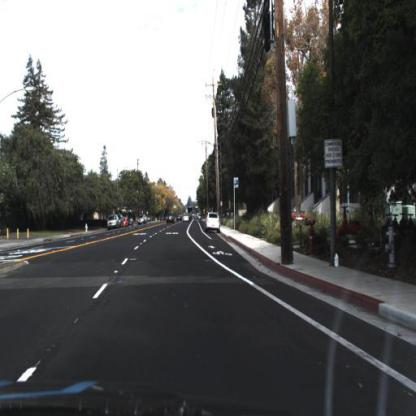car: (205, 212, 222, 235), (208, 213, 223, 233), (106, 217, 121, 231), (137, 214, 147, 226)
